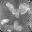people: (19, 3, 30, 14), (5, 2, 15, 13), (13, 20, 23, 31), (12, 8, 20, 18), (1, 19, 11, 25)
